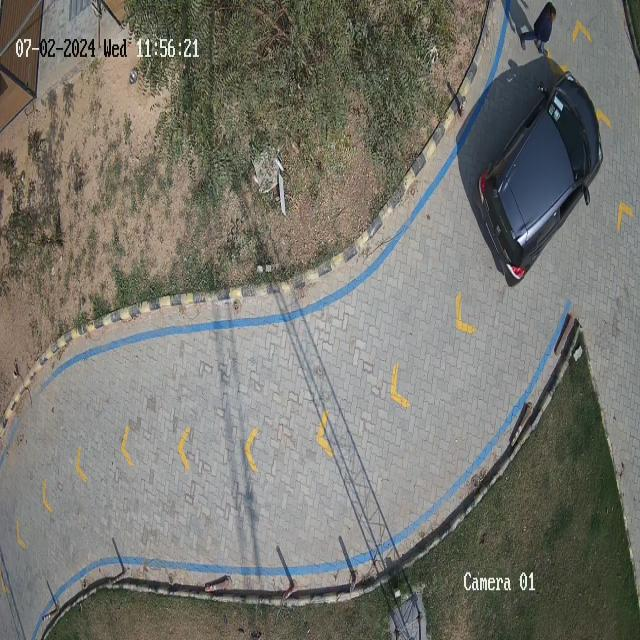car: (475, 76, 602, 284)
